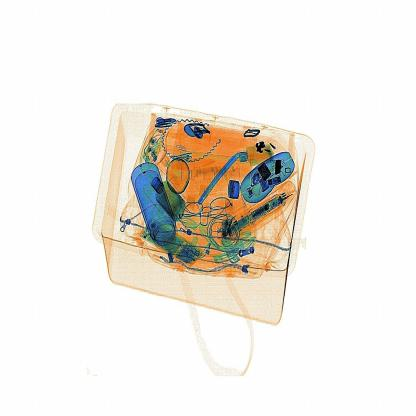pliers: (193, 147, 245, 211)
